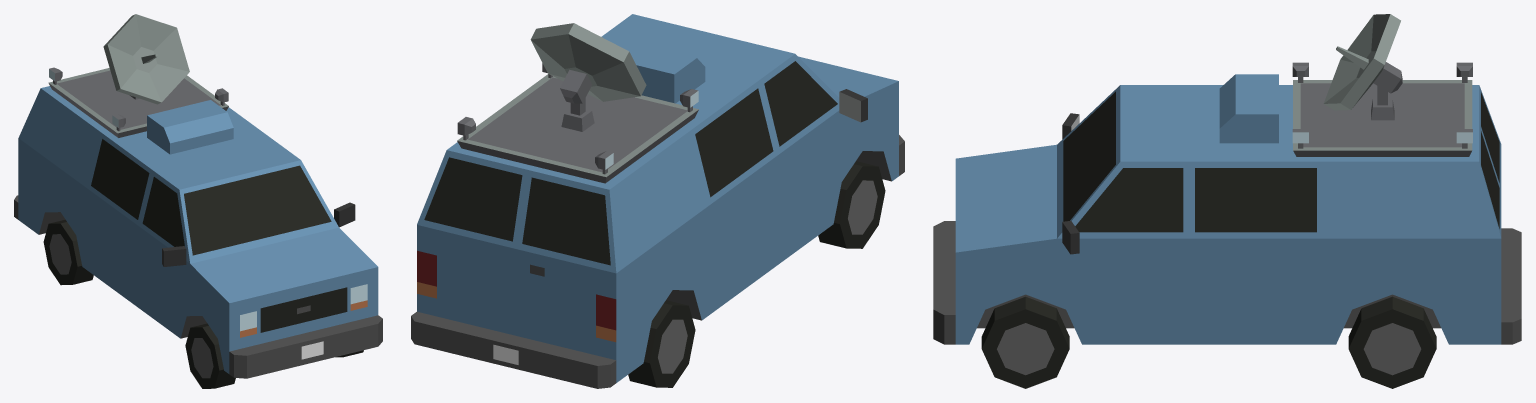
The model's file is Veh_News_Van.glb.
The picture shows the model from 3 angles, left to right: view 1: azimuth 30°, elevation 25°; view 2: azimuth 150°, elevation 25°; view 3: azimuth 270°, elevation 25°; orthographic projection. The views are drawn at different scales.
Visible parts, largest first — view 1: News_Van, Wheel_FR, Wheel_R; view 2: News_Van, Wheel_R, Wheel_FR; view 3: News_Van, Wheel_RL, Wheel_FL.
Boxes of the visible parts, bbox=[...] form: News_Van: bbox=[14, 14, 382, 378]; Wheel_FR: bbox=[185, 323, 235, 388]; Wheel_R: bbox=[43, 219, 93, 285]; News_Van: bbox=[411, 14, 904, 388]; Wheel_R: bbox=[628, 300, 695, 387]; Wheel_FR: bbox=[818, 161, 885, 248]; News_Van: bbox=[933, 14, 1521, 344]; Wheel_RL: bbox=[1348, 296, 1436, 388]; Wheel_FL: bbox=[981, 296, 1069, 388].
Bounding box in the file's own units: 1.38 × 1.75 × 2.84.
Materials: 1 (1 with a texture image).
